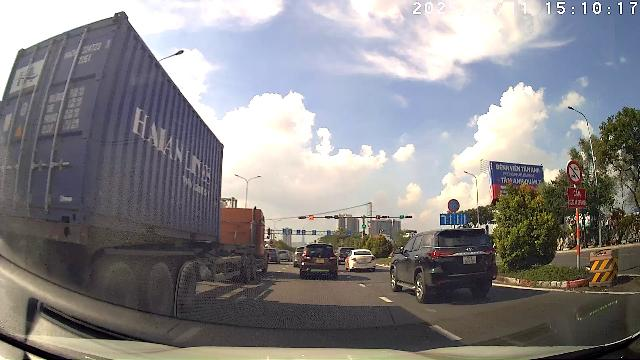131a-cam-do-xe: (448, 198, 460, 212)
